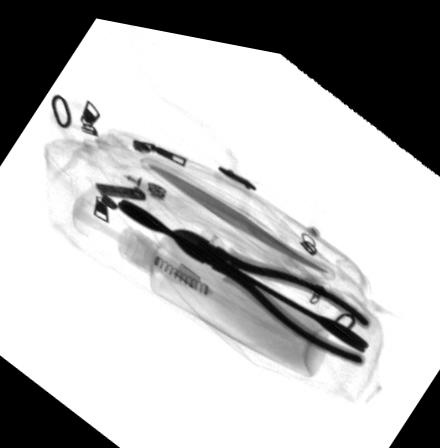Pliers: (171, 220, 370, 348)
Wrench: (114, 192, 370, 339)
